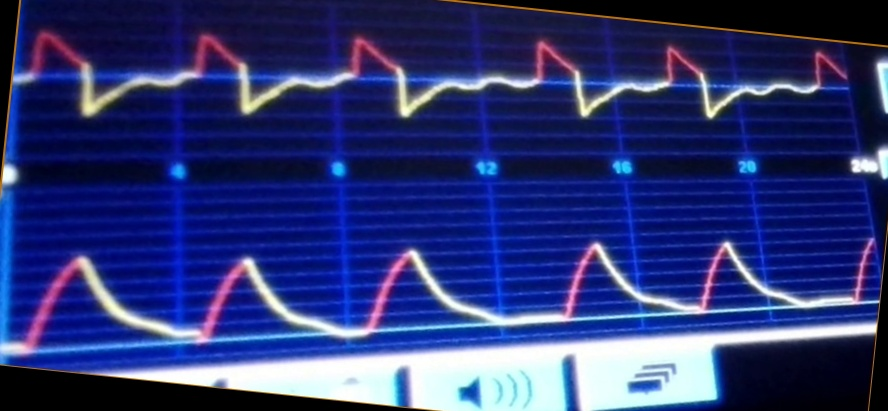Ineffective_effort Flow: (18, 26, 844, 125)
Ineffective_effort Volume: (9, 234, 874, 348)
